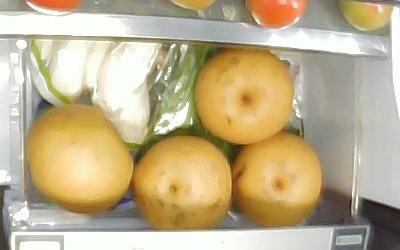pear: (27, 104, 133, 213), (133, 134, 232, 229), (194, 50, 293, 145), (232, 133, 322, 225)
